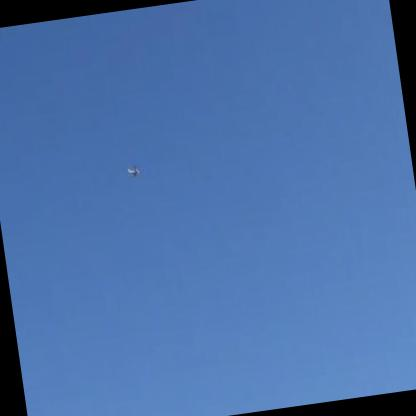plane: (124, 162, 142, 181)
